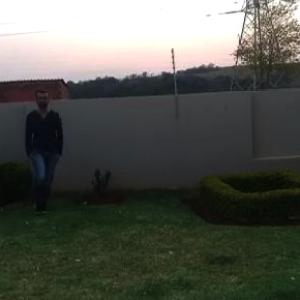follow: (25, 91, 74, 203)
